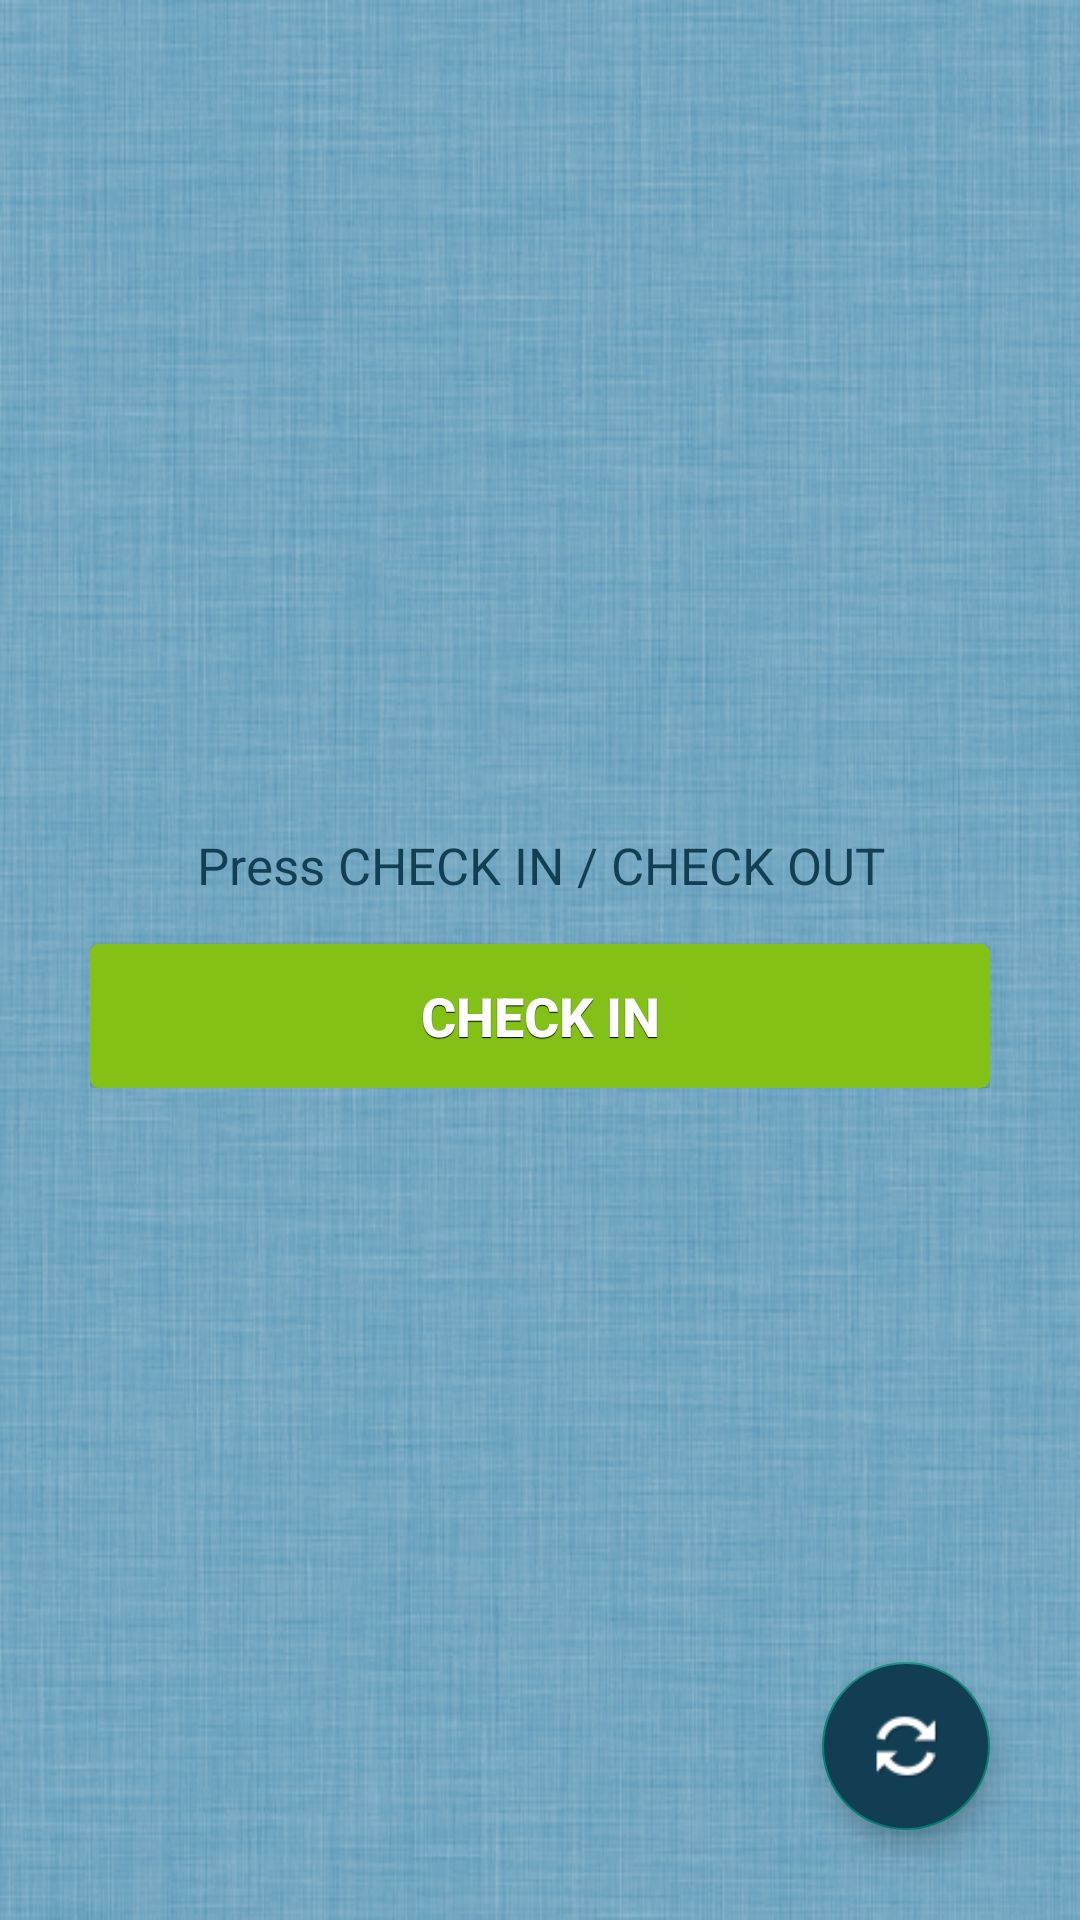

Icon click points for this 1080 x 1920 phone screenshot, format (x,y):
refresh use: (906,1746)
